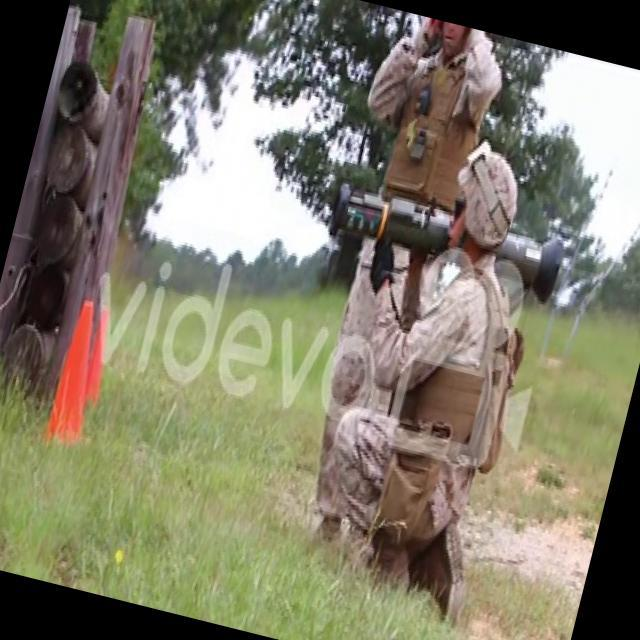rocket: (324, 178, 565, 306)
